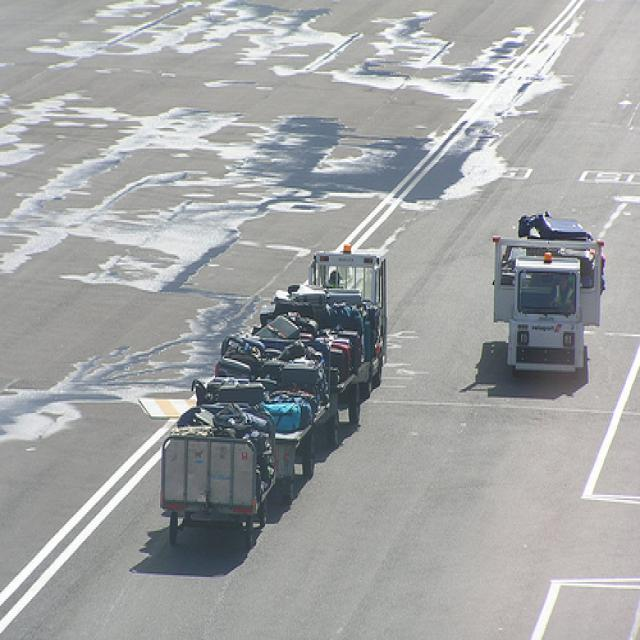Vehicle: (162, 250, 387, 551), (491, 210, 607, 374)
